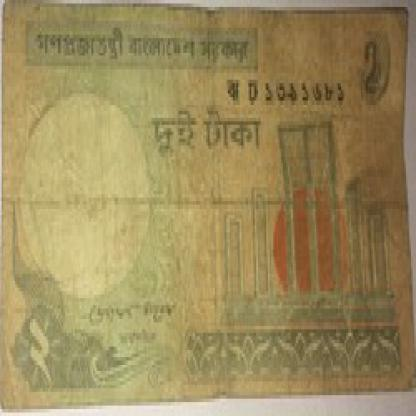two taka: (18, 298, 70, 413), (358, 35, 389, 118)
